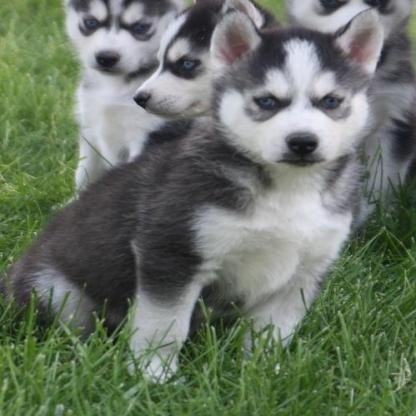dog: (0, 9, 389, 389), (67, 0, 195, 192), (140, 16, 217, 116), (287, 0, 416, 48)
